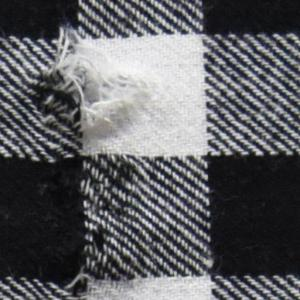Damage: (27, 17, 149, 300)
